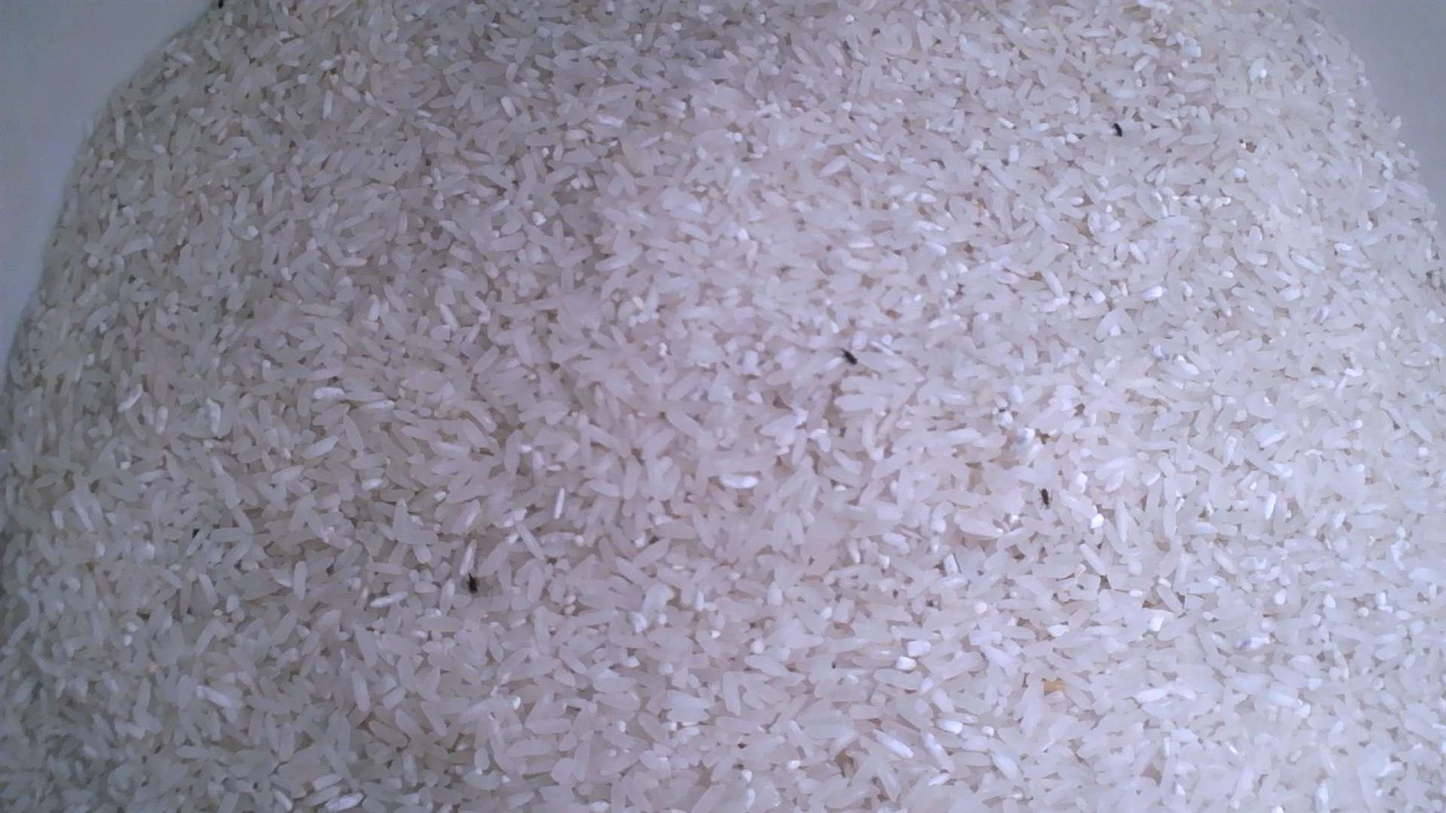Sitophilus-Oryzae: (1039, 489, 1051, 507), (842, 350, 857, 364), (467, 574, 477, 593)
